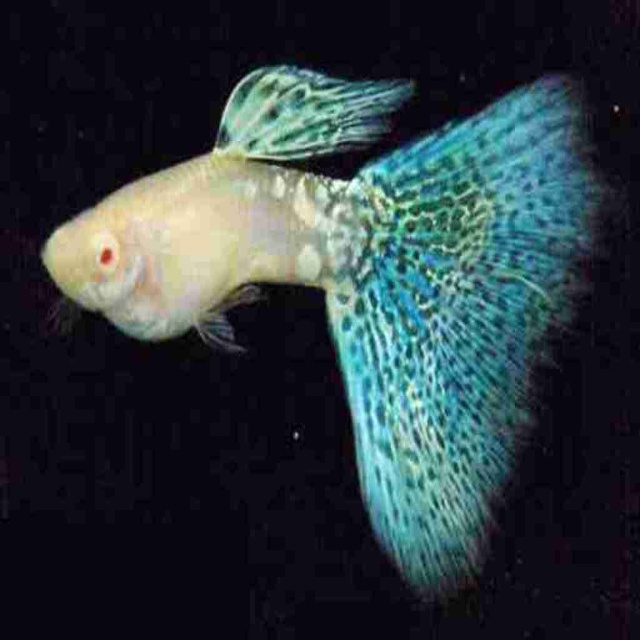Fish: (66, 70, 607, 587)
